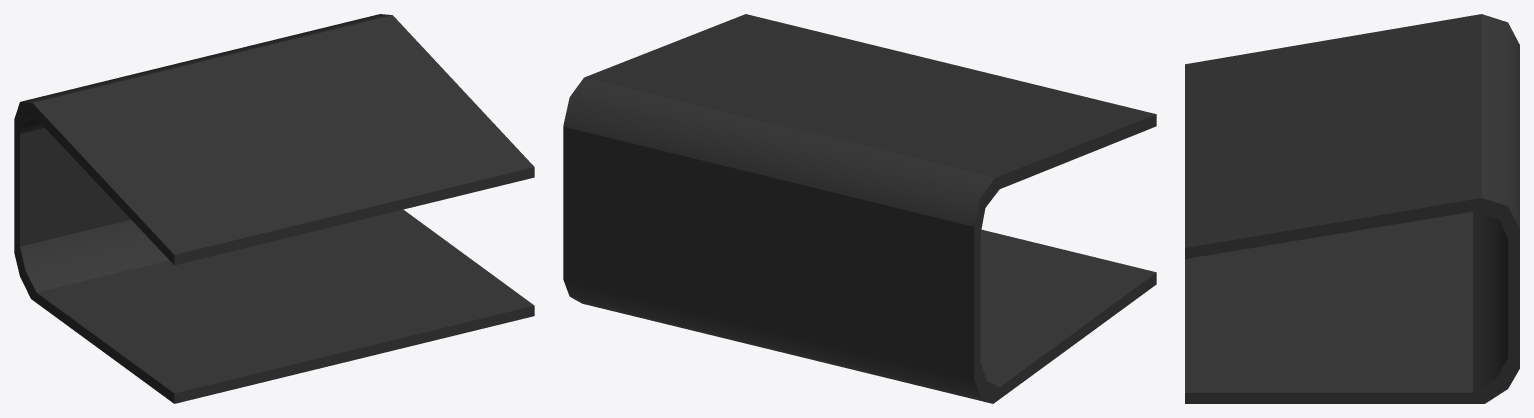
Rendered from notebook1.FBX.
The picture shows the model from 3 angles, left to right: view 1: azimuth 30°, elevation 25°; view 2: azimuth 150°, elevation 25°; view 3: azimuth 270°, elevation 25°; orthographic projection. The views are drawn at different scales.
Visible parts, largest first — view 1: notebook1; view 2: notebook1; view 3: notebook1.
Boxes of the visible parts, <box> form: notebook1: <box>14,14,534,403</box>; notebook1: <box>563,14,1156,403</box>; notebook1: <box>1185,14,1519,403</box>.
Bounding box in the file's own units: 32.06 × 16.76 × 24.67.
Materials: 1 (1 with a texture image).
